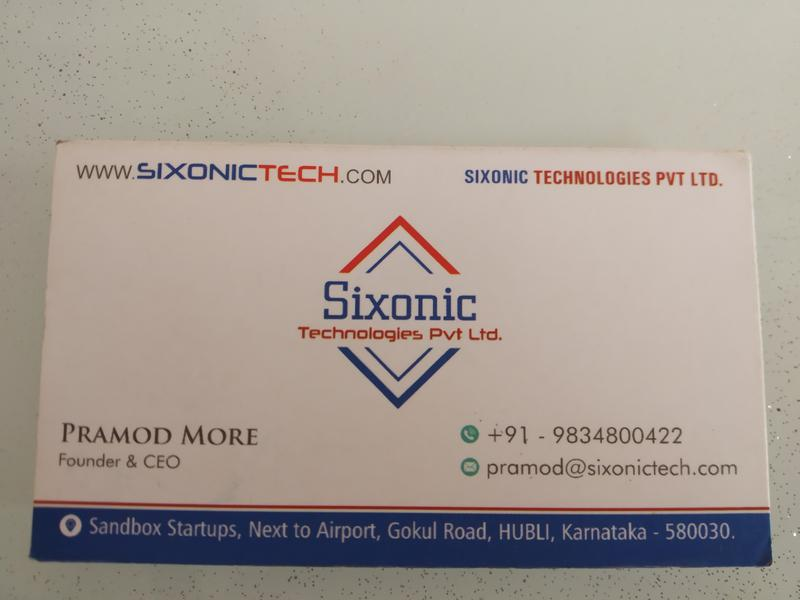card: (35, 139, 773, 568)
